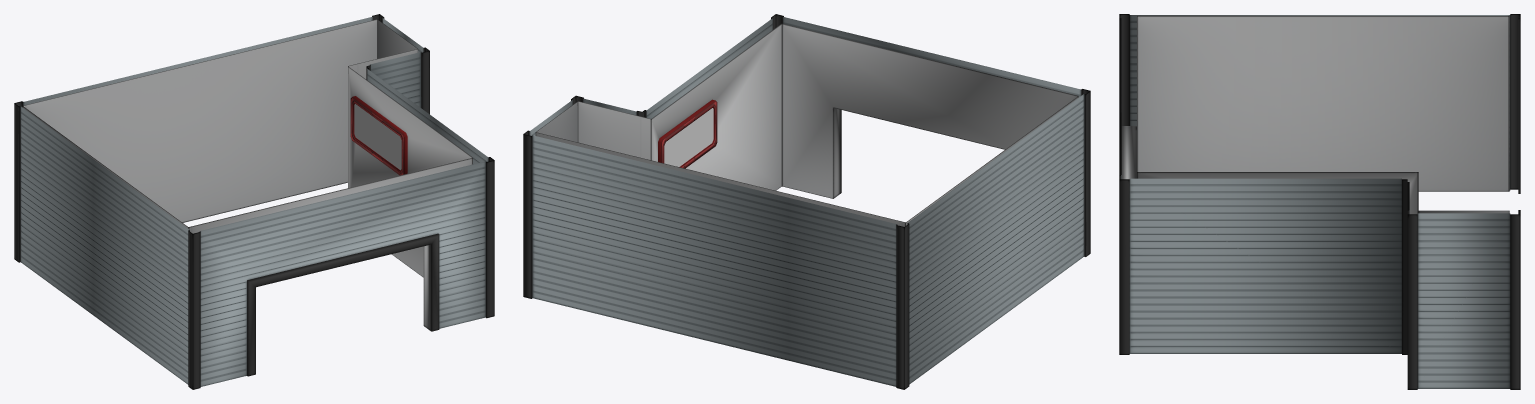
Rendered from GarageWarehouseWalls.fbx.
3 renders of one model, left to right at view 1: azimuth 30°, elevation 25°; view 2: azimuth 150°, elevation 25°; view 3: azimuth 270°, elevation 25°, orthographic. The views are drawn at different scales.
Visible parts, largest first — view 1: GarageWarehouseWallBack, GarageWarehouseWallFront, GarageWarehouseWallRight, GarageWarehouseWallLeft, GarageWarehouseWallCornerFront, GarageWarehouseWallCornerLeft; view 2: GarageWarehouseWallBack, GarageWarehouseWallRight, GarageWarehouseWallFront, GarageWarehouseWallLeft, GarageWarehouseWallCornerFront, GarageWarehouseWallCornerLeft; view 3: GarageWarehouseWallRight, GarageWarehouseWallLeft, GarageWarehouseWallCornerLeft, GarageWarehouseWallFront, GarageWarehouseWallBack.
Part boxes in pixels (x1,y1,x2,y2): GarageWarehouseWallBack: [14, 16, 377, 262]; GarageWarehouseWallFront: [188, 157, 494, 389]; GarageWarehouseWallRight: [20, 106, 189, 384]; GarageWarehouseWallLeft: [348, 65, 488, 277]; GarageWarehouseWallCornerFront: [348, 49, 420, 107]; GarageWarehouseWallCornerLeft: [372, 14, 429, 114]; GarageWarehouseWallBack: [532, 132, 909, 389]; GarageWarehouseWallRight: [906, 94, 1083, 384]; GarageWarehouseWallFront: [771, 14, 1090, 256]; GarageWarehouseWallLeft: [636, 18, 781, 190]; GarageWarehouseWallCornerFront: [578, 98, 651, 159]; GarageWarehouseWallCornerLeft: [523, 95, 583, 298]; GarageWarehouseWallRight: [1129, 15, 1510, 191]; GarageWarehouseWallLeft: [1129, 172, 1418, 354]; GarageWarehouseWallCornerLeft: [1407, 210, 1520, 389]; GarageWarehouseWallFront: [1119, 14, 1136, 354]; GarageWarehouseWallBack: [1510, 14, 1520, 193].
Bounding box in the file's own units: 20.8 × 8.5 × 17.6.
